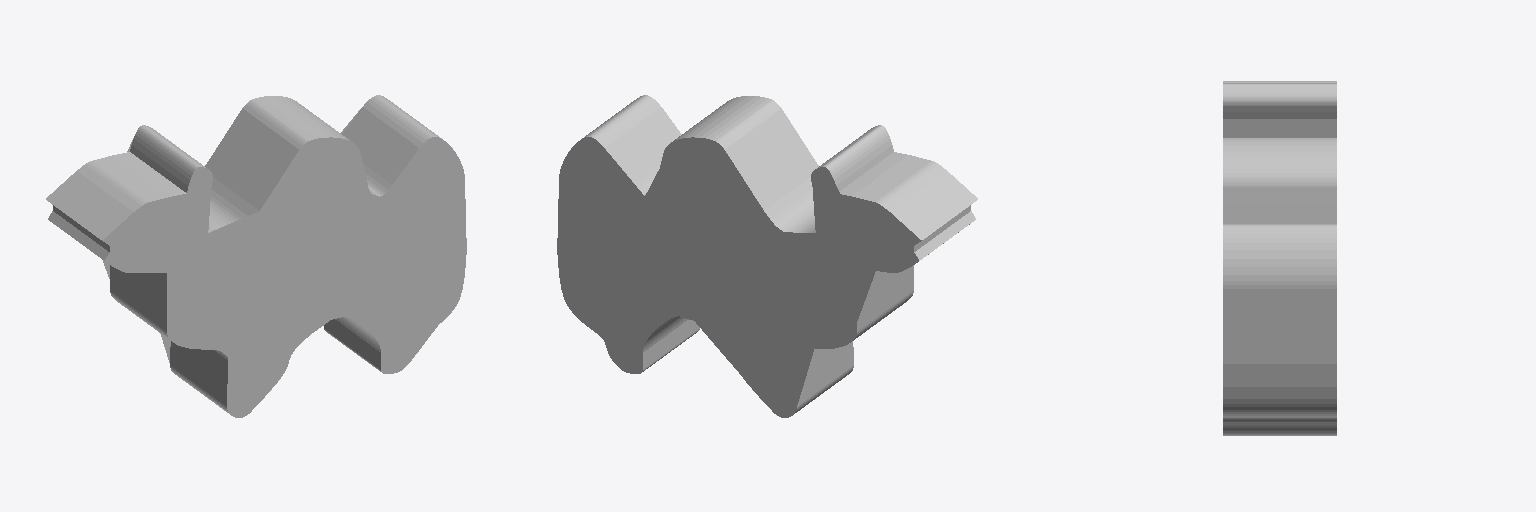
The model's file is camel.obj.
3 renders of one model, left to right at view 1: azimuth 30°, elevation 25°; view 2: azimuth 150°, elevation 25°; view 3: azimuth 270°, elevation 25°, orthographic.
Visible parts, largest first — view 1: Extrude.1; view 2: Extrude.1; view 3: Extrude.1.
Part boxes in pixels (x1,y1,x2,y2): Extrude.1: (46, 95, 466, 417); Extrude.1: (557, 95, 977, 417); Extrude.1: (1223, 81, 1336, 435).
Bounding box in the file's own units: 5.62 × 3.85 × 1.52.